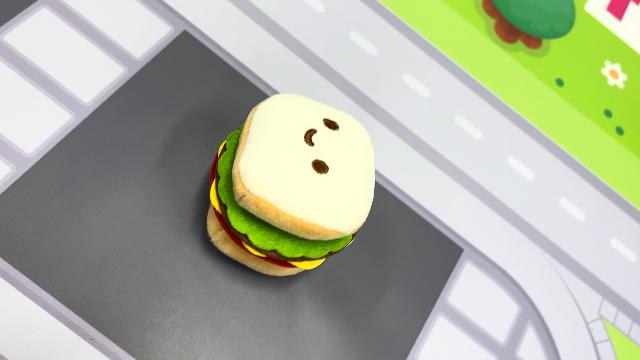sandwich: (204, 90, 378, 278)
